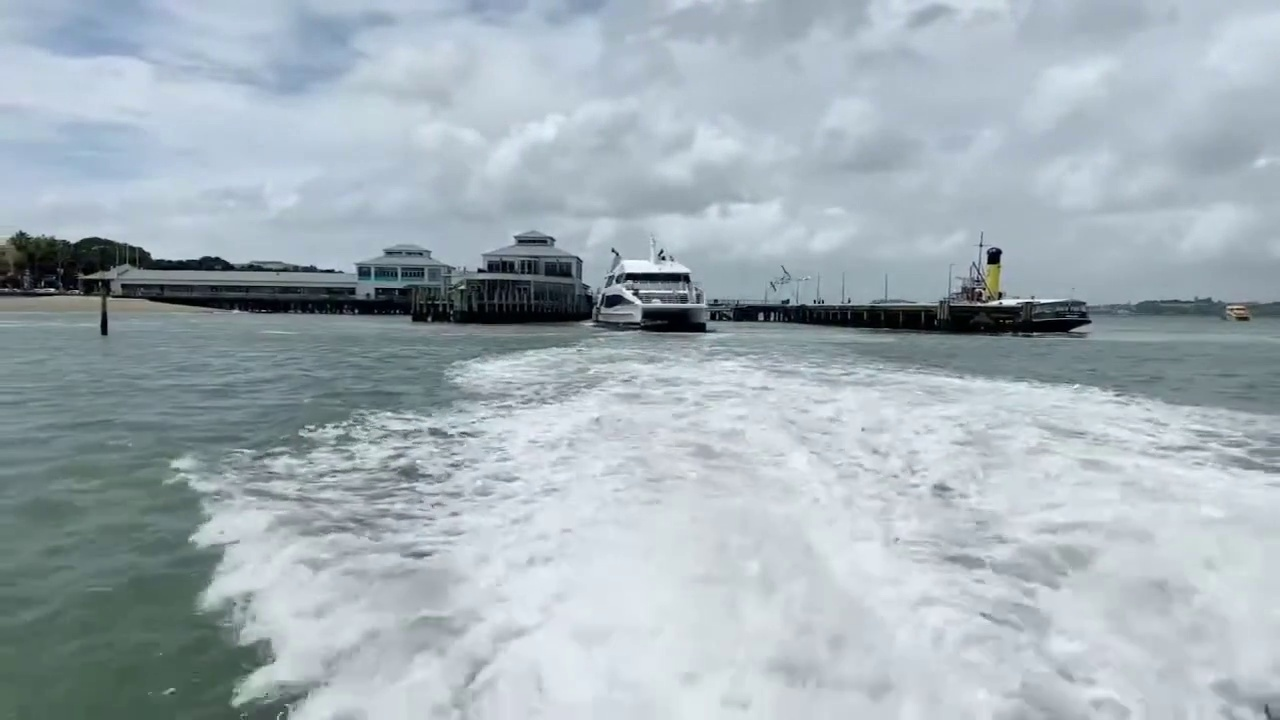ferry: (591, 237, 707, 332)
